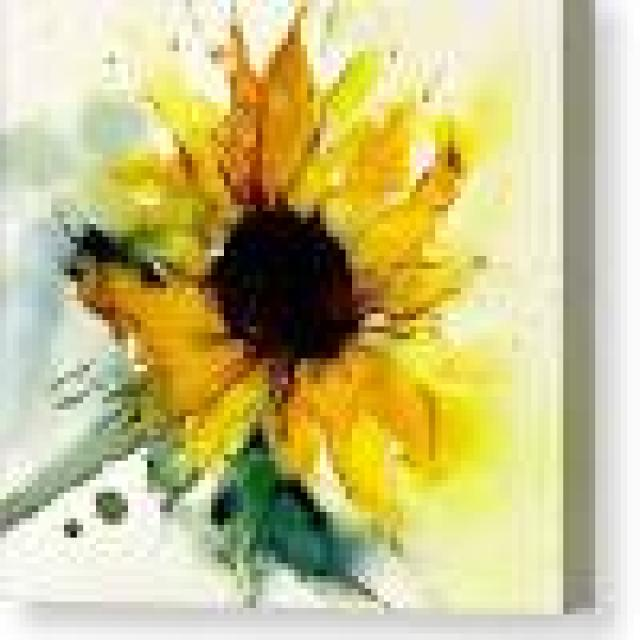sunflower: (61, 16, 515, 560)
